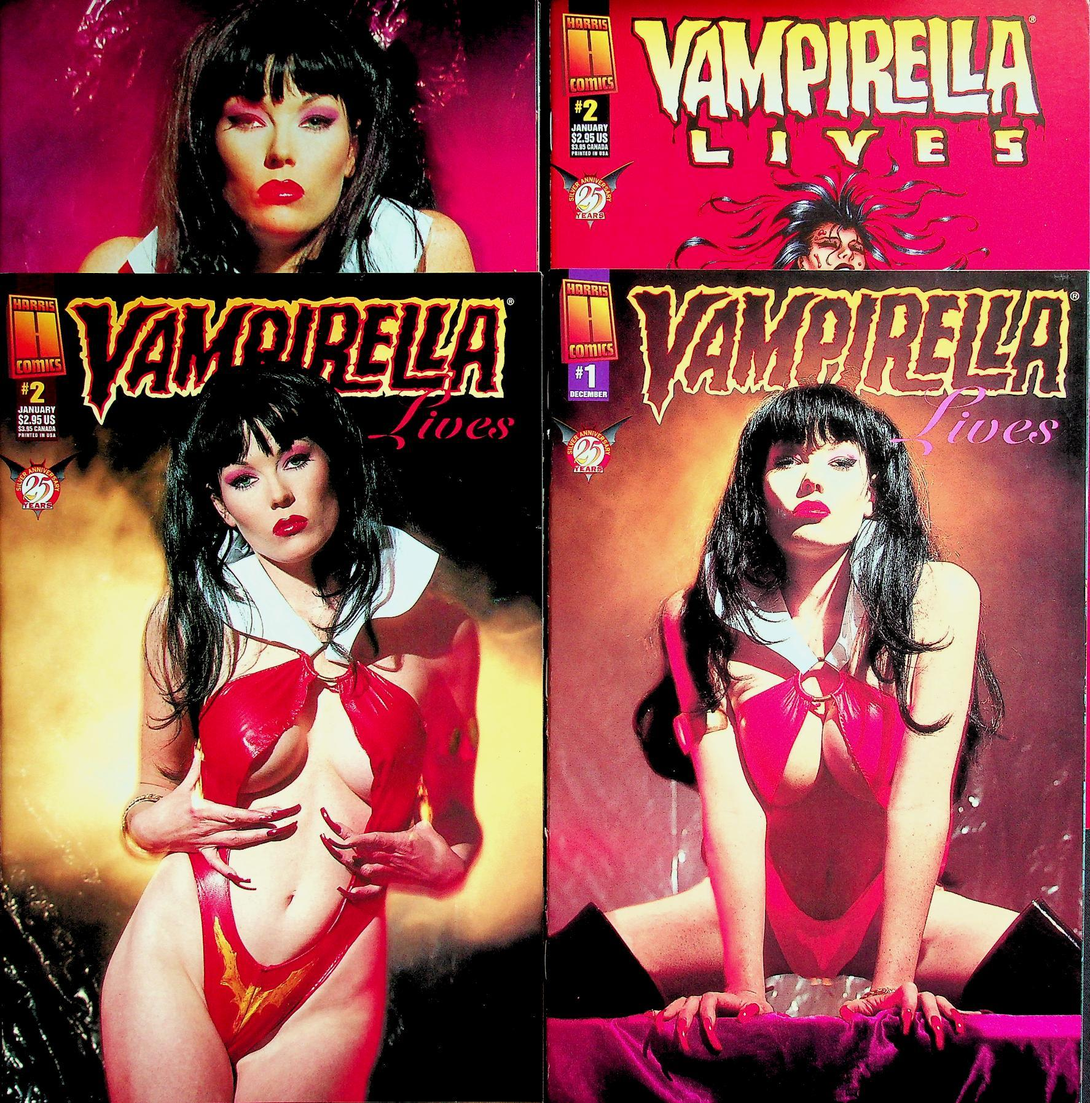comic: (0, 274, 543, 1100)
